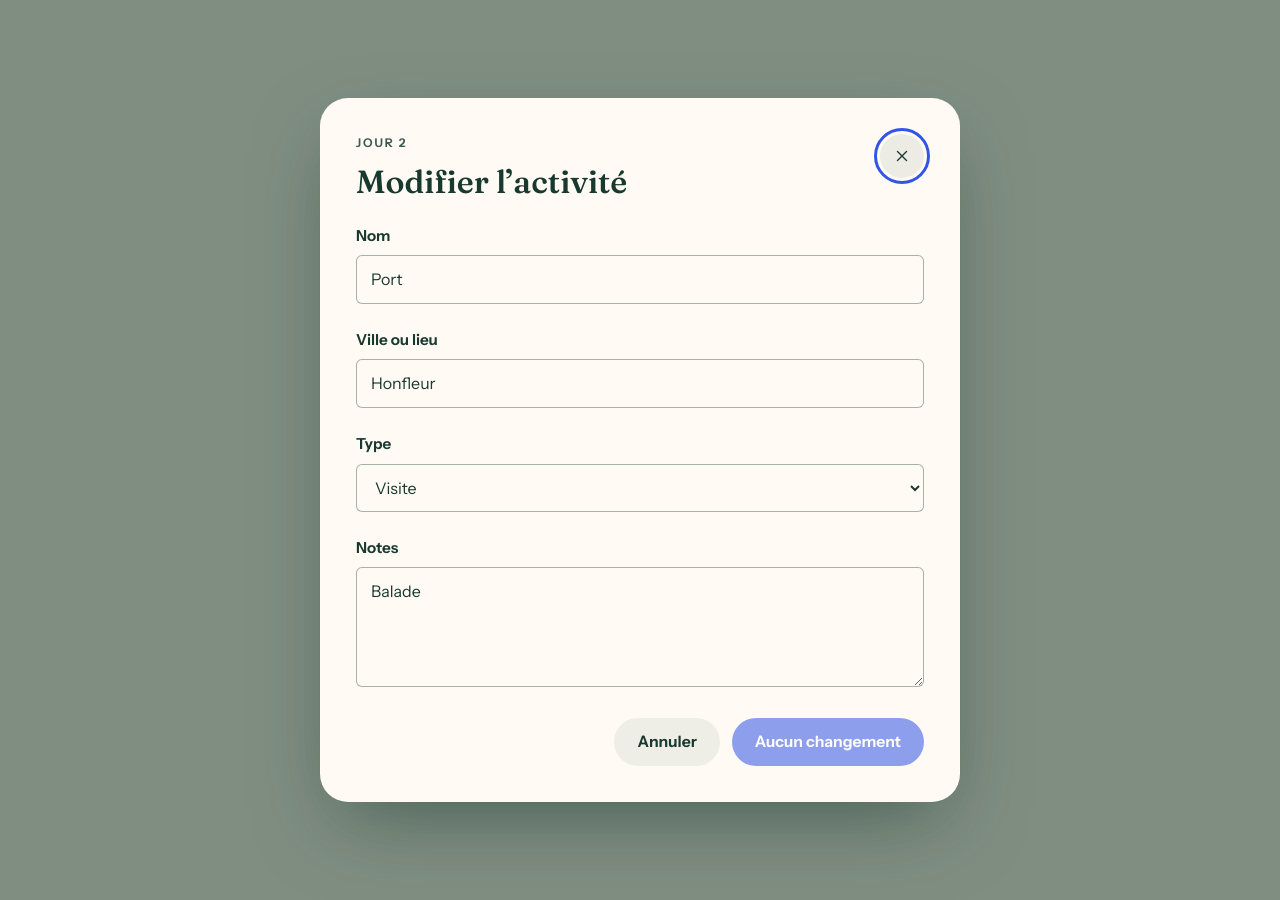
Test: editing › reports an emptied field where it happened
Clear the field labelled "Nom". click: x=640, y=280
box: [356, 255, 924, 304]
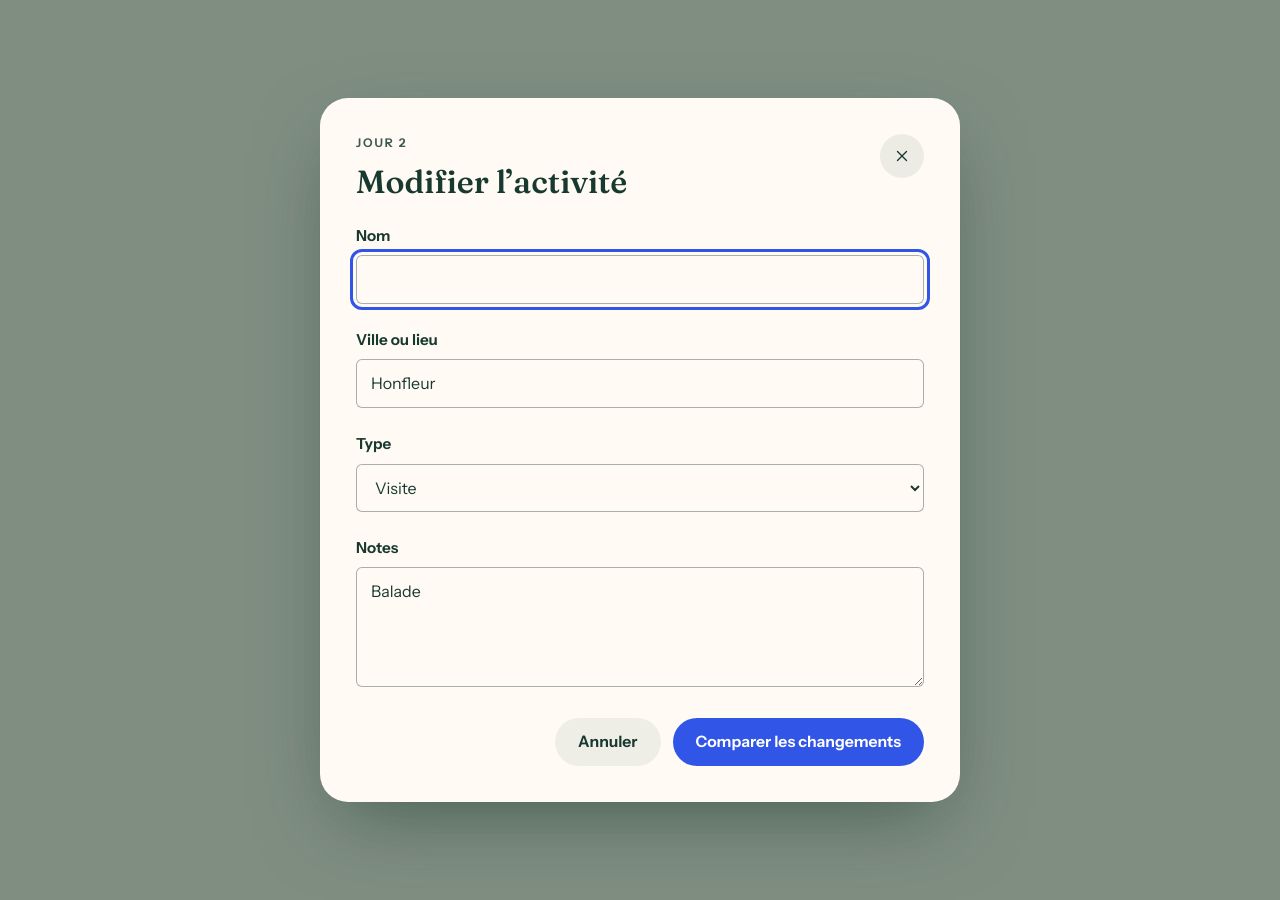
Click the button "Comparer les changements". click: x=798, y=742
box: [672, 718, 924, 766]
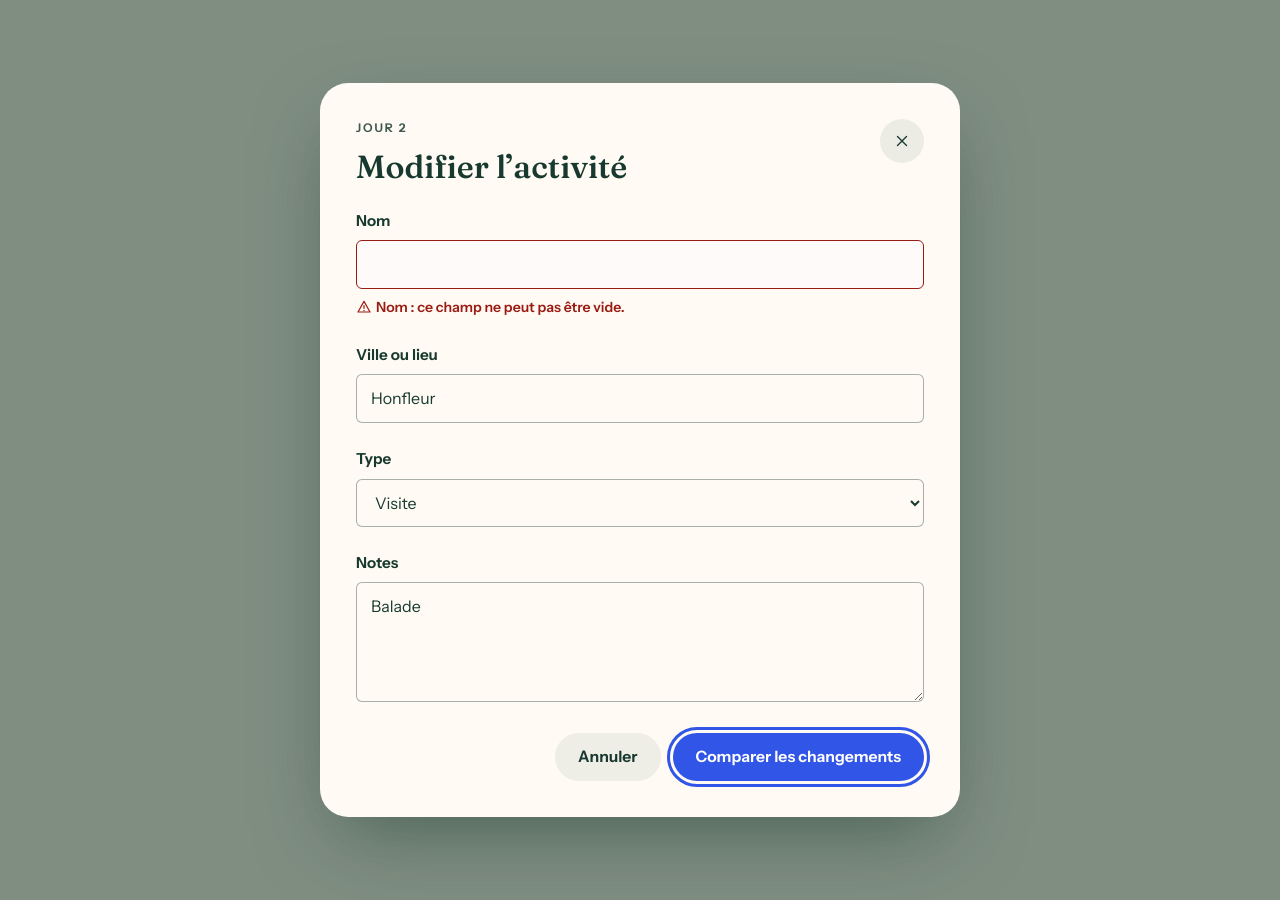
Expected: the text "Nom : ce champ ne peut pas être vide." is shown, [356, 298, 624, 316]
